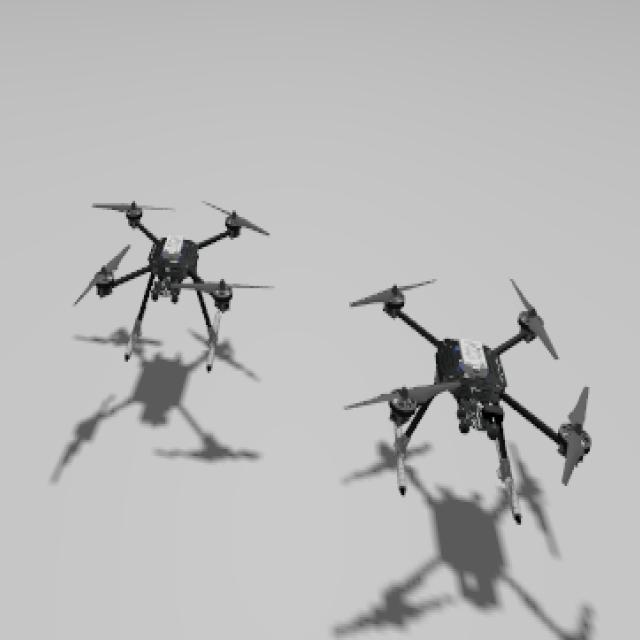drone: (349, 275, 598, 524), (71, 190, 277, 373)
